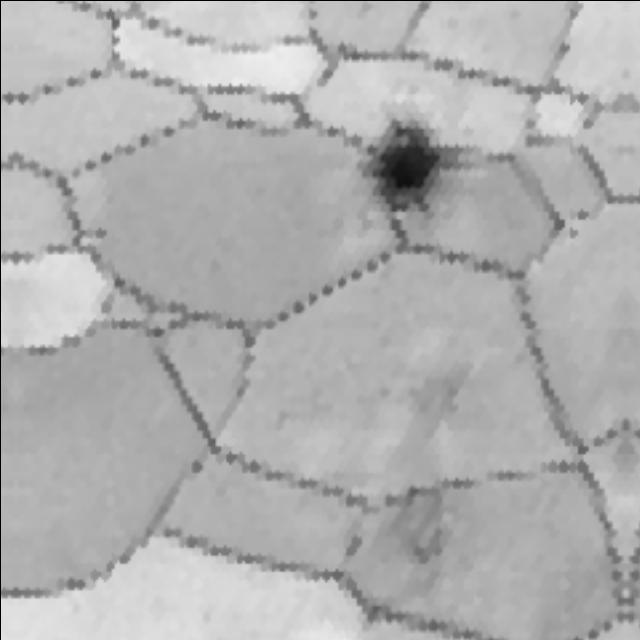good_void: (348, 103, 478, 233), (363, 463, 480, 587), (373, 352, 484, 452), (545, 193, 598, 244)
